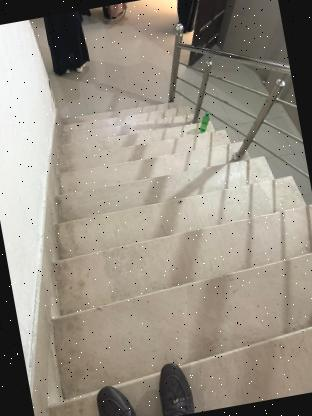stair: (36, 55, 312, 416)
